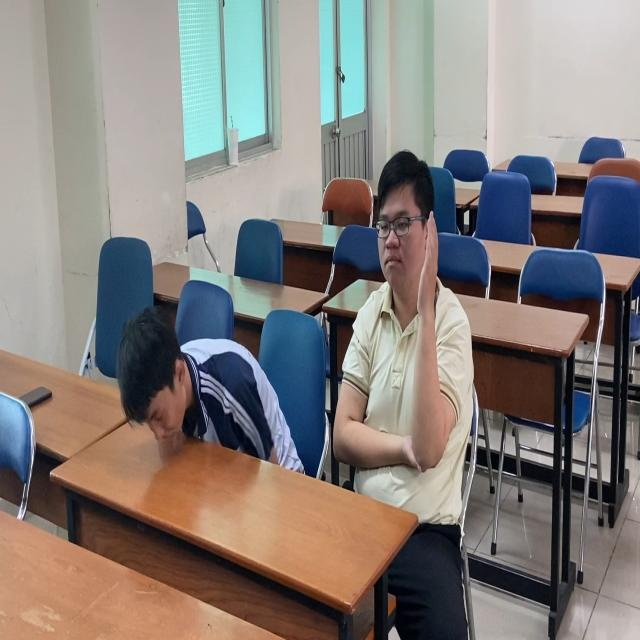raise_hand: (359, 146, 468, 515)
sleep: (107, 295, 298, 484)
